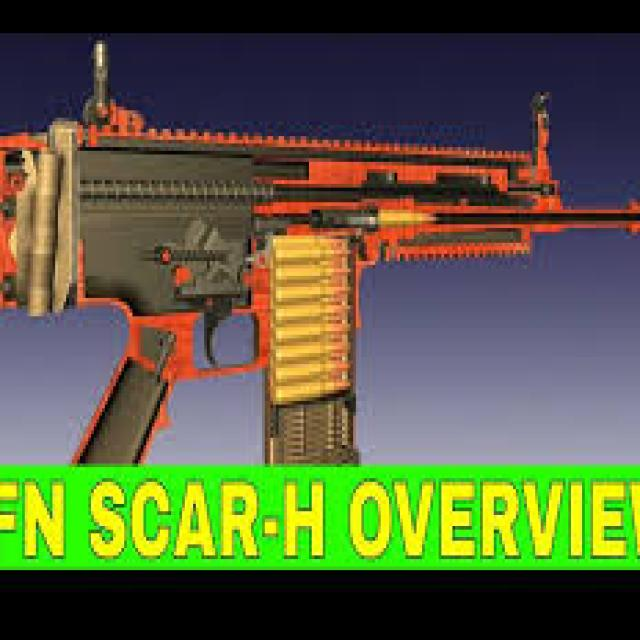Gun: (0, 56, 640, 460)
